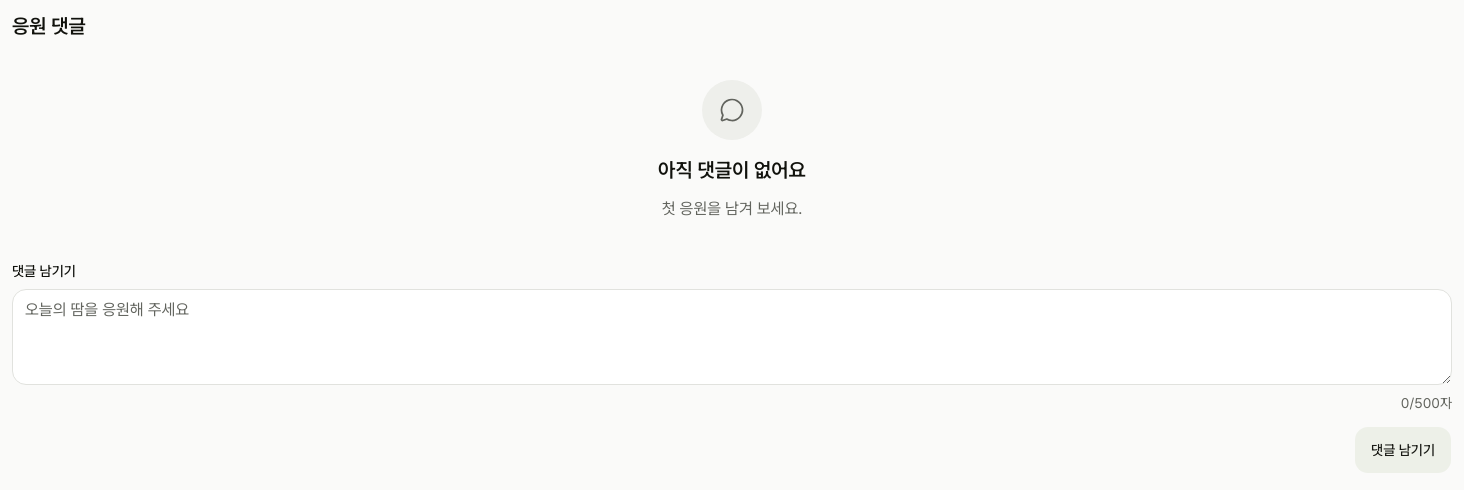
WorkoutCommentsView › 댓글을 남기면 기록 ID와 함께 보내고 입력을 비운다
Type "  힘내요!  " into the text box labelled "댓글 남기기".
click(732, 337); type("  힘내요!  ")  # box [12,289,1452,385]
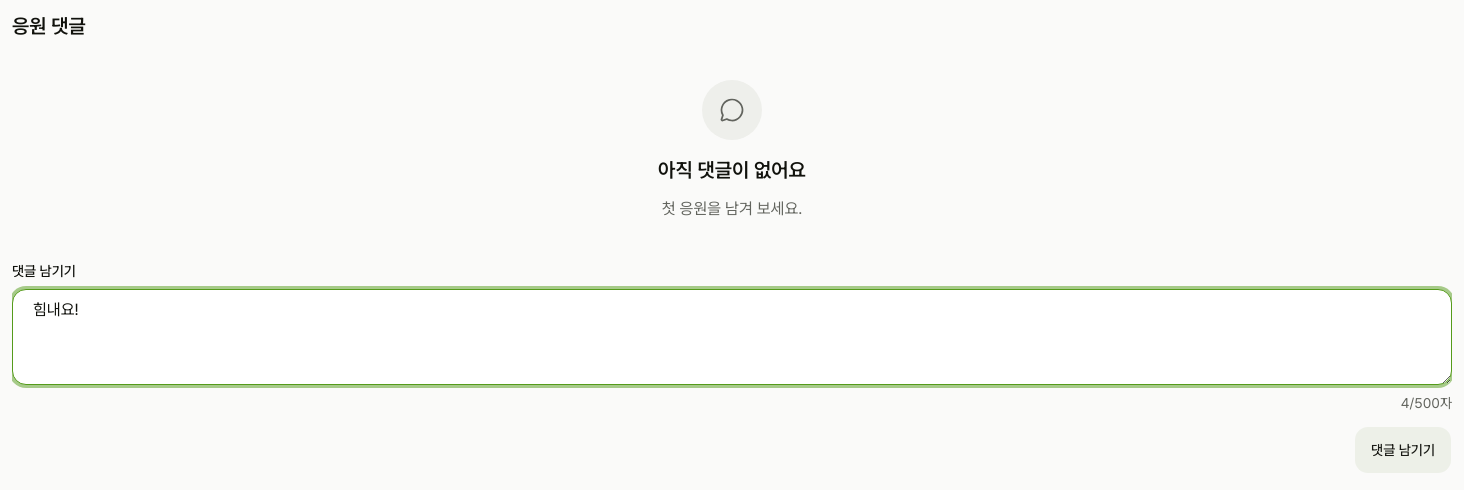
Check: the text "4/500자" is shown, box [1401,395,1452,411]
Click the button "댓글 남기기".
click(1403, 450)  # box [1354,426,1452,474]
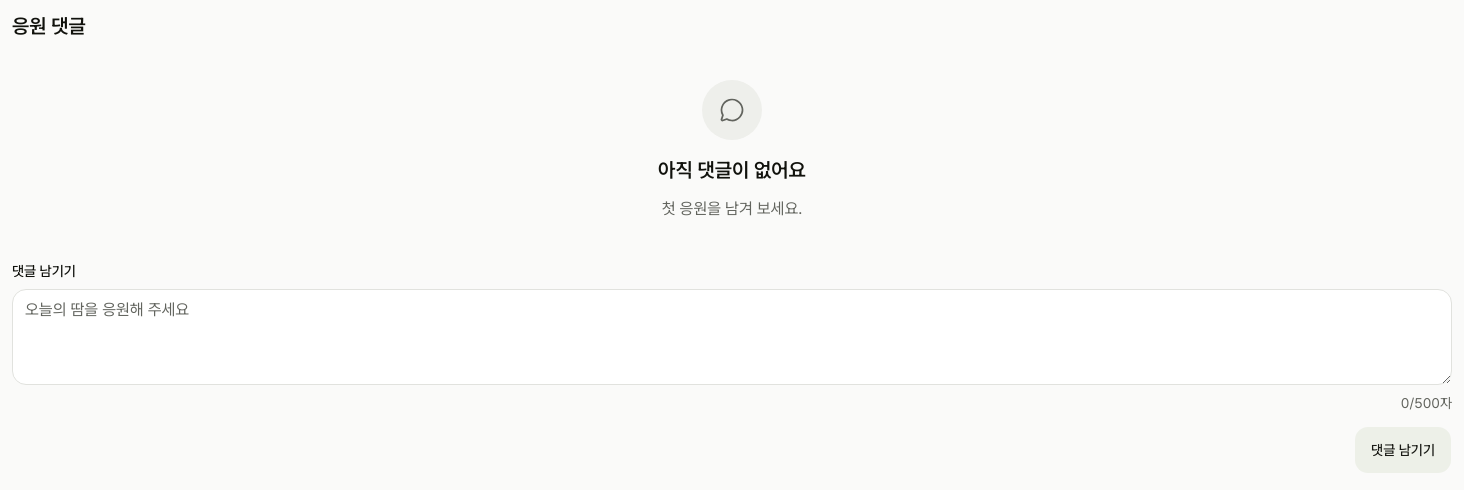
Check: the text box labelled "댓글 남기기" is empty, box [12,289,1452,385]
